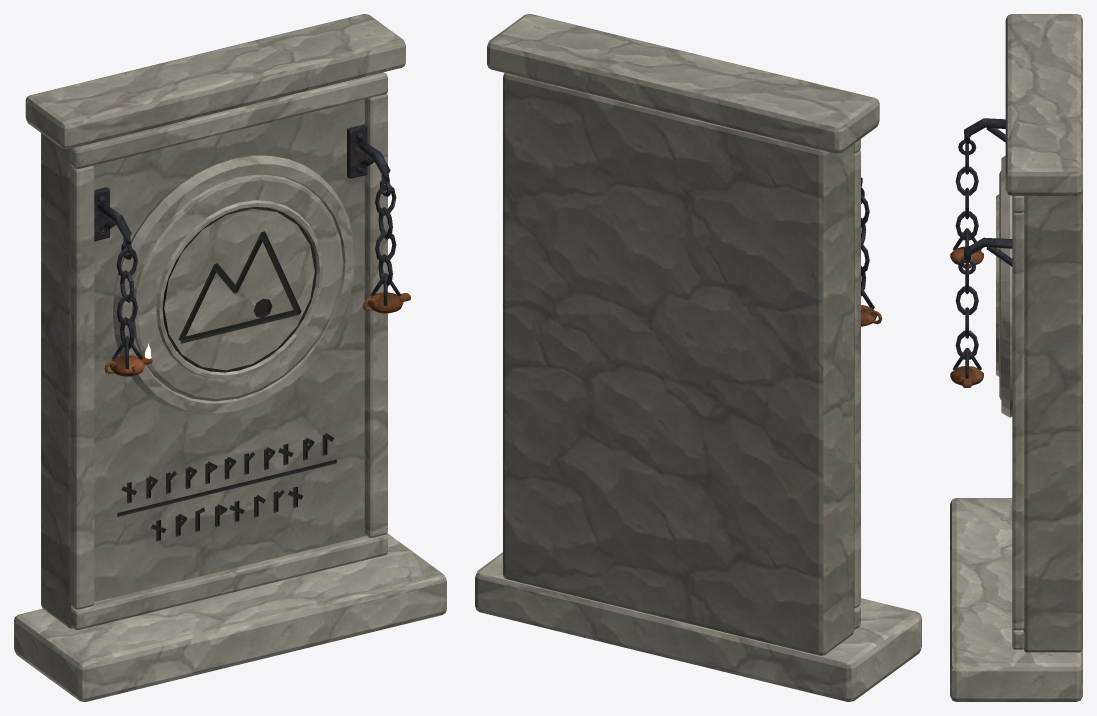
The model's file is qb_crest_mountain.glb.
3 views of the same model, side by side, from view 1: azimuth 30°, elevation 25°; view 2: azimuth 150°, elevation 25°; view 3: azimuth 270°, elevation 25° (orthographic). The views are drawn at different scales.
Parts seen in each view (by area): view 1: model; view 2: model; view 3: model.
Boxes of the visible parts, x1,y1,x2,y2 form: model: (14,14,446,701); model: (475,14,921,701); model: (950,14,1082,701).
Bounding box in the file's own units: 0.94 × 1.36 × 0.31.
7 materials, 5 textured.
